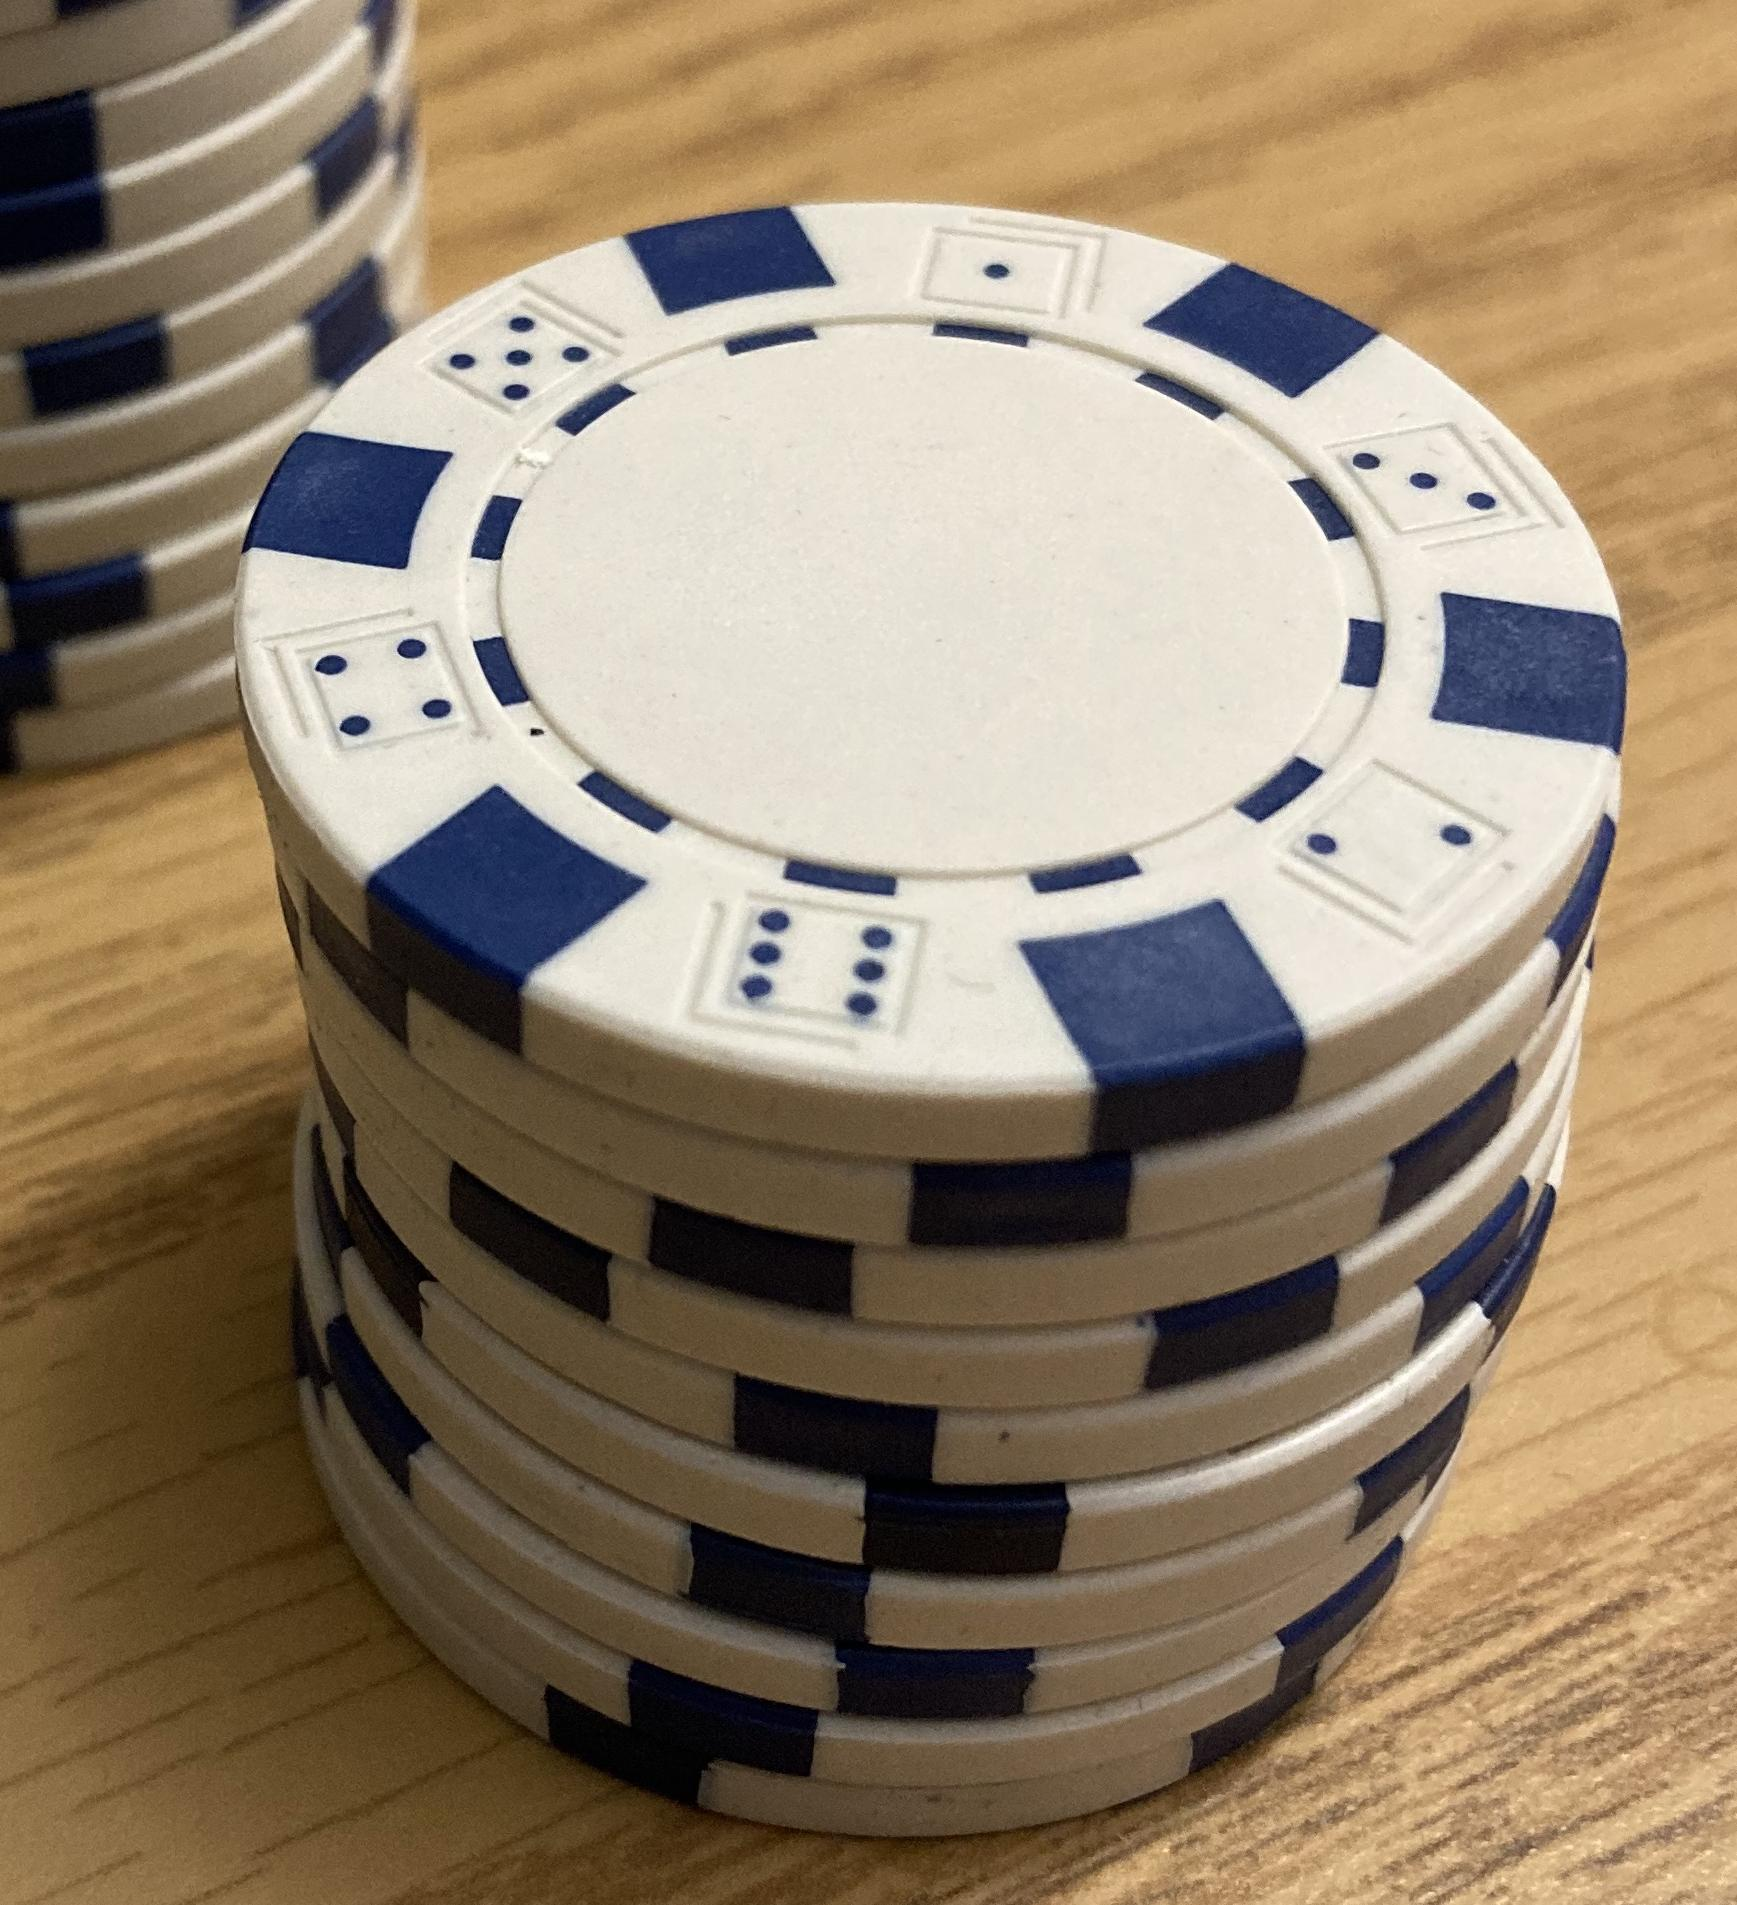Chip: (2, 2, 1737, 1905)
